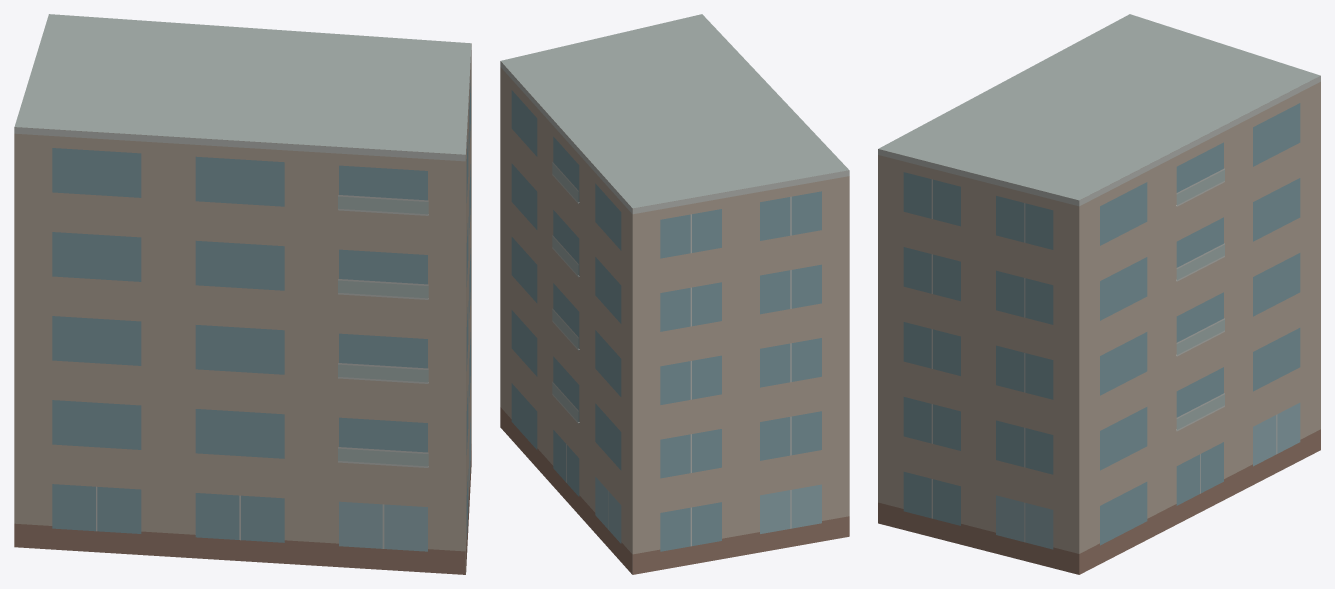
The model's file is survey-upis-32720266.glb.
3 renders of one model, left to right at view 1: azimuth 30°, elevation 25°; view 2: azimuth 150°, elevation 25°; view 3: azimuth 270°, elevation 25°, orthographic. The views are drawn at different scales.
Parts seen in each view (by area): view 1: survey-upis-32720266.tmp; view 2: survey-upis-32720266.tmp; view 3: survey-upis-32720266.tmp.
Boxes of the visible parts, x1=… form: survey-upis-32720266.tmp: x1=14, y1=14, x2=471, y2=574; survey-upis-32720266.tmp: x1=500, y1=14, x2=849, y2=574; survey-upis-32720266.tmp: x1=878, y1=14, x2=1320, y2=574.
Bounding box in the file's own units: 16.29 × 15.25 × 16.35.
